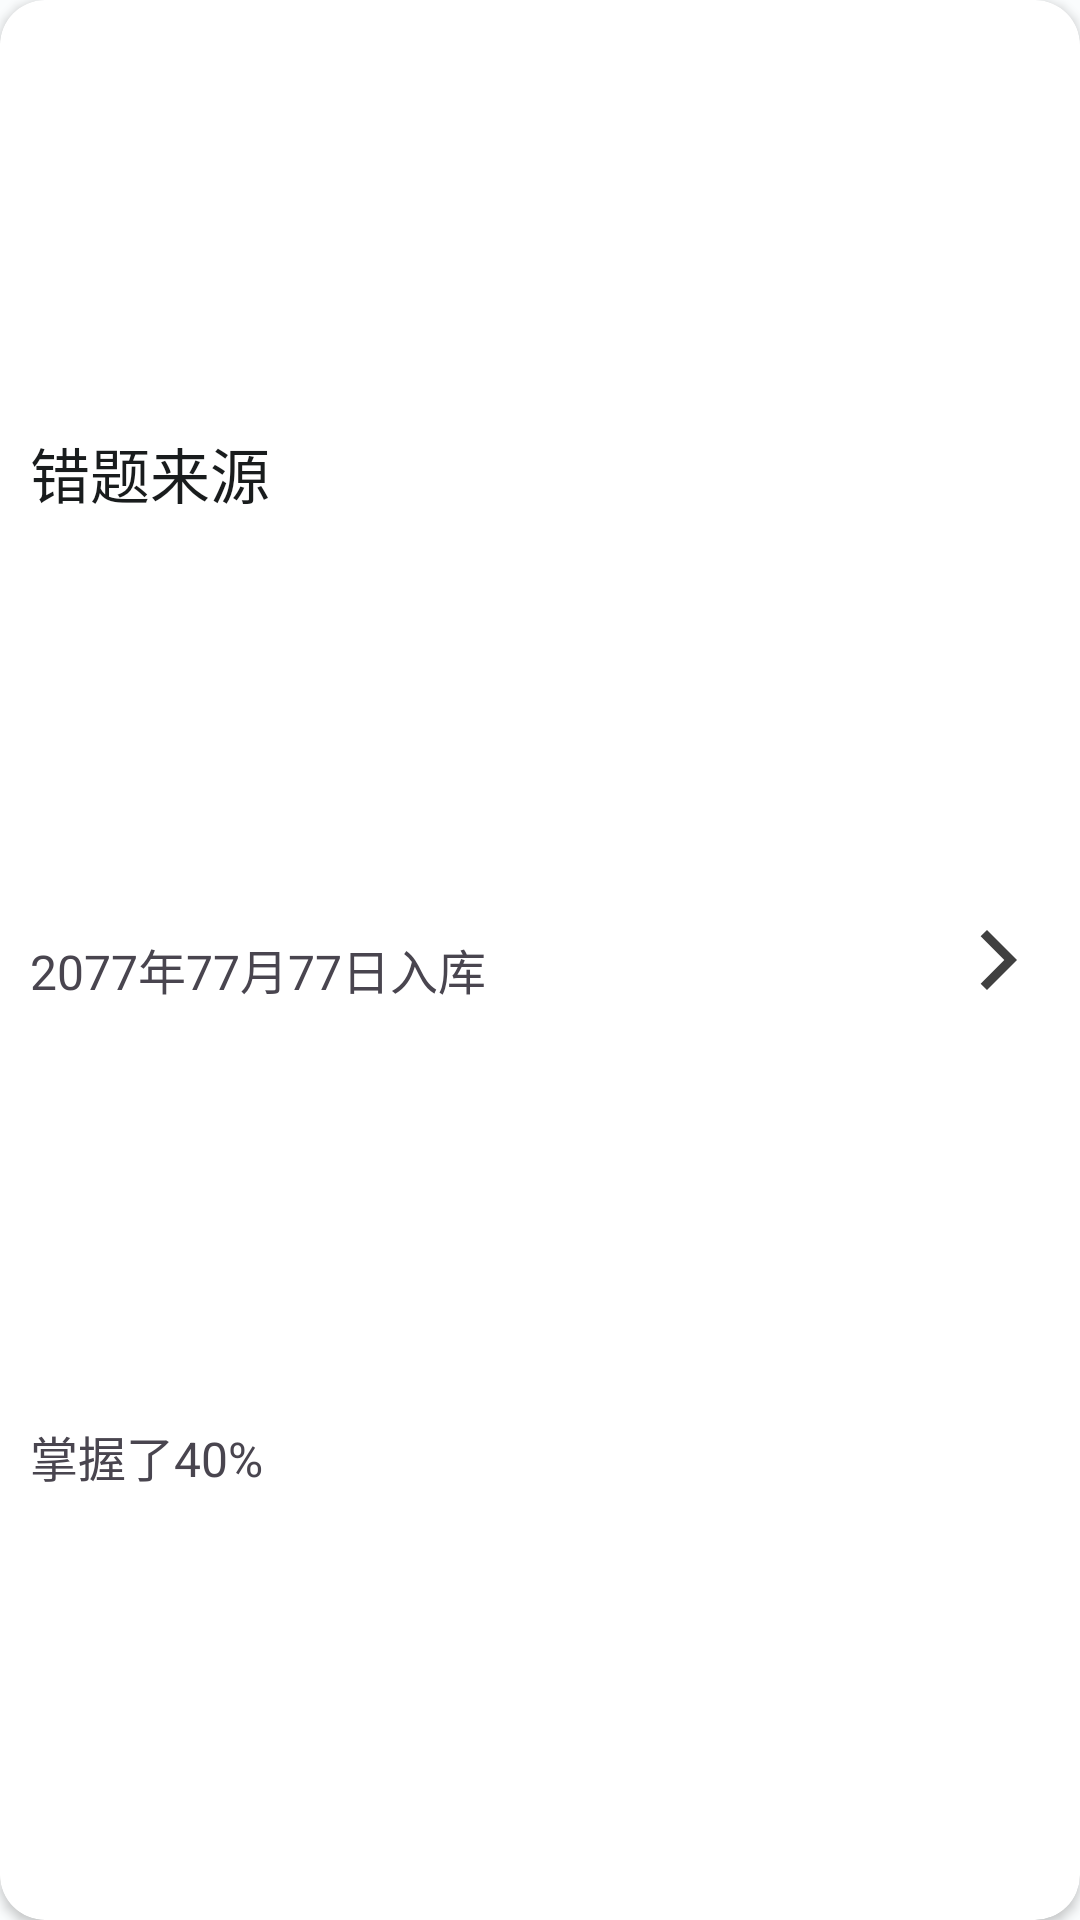

Where icons sit on this 1080 × 1920 app screen, as (x1, y1, x2, y2):
arrow forward: (981, 930, 1017, 990)
